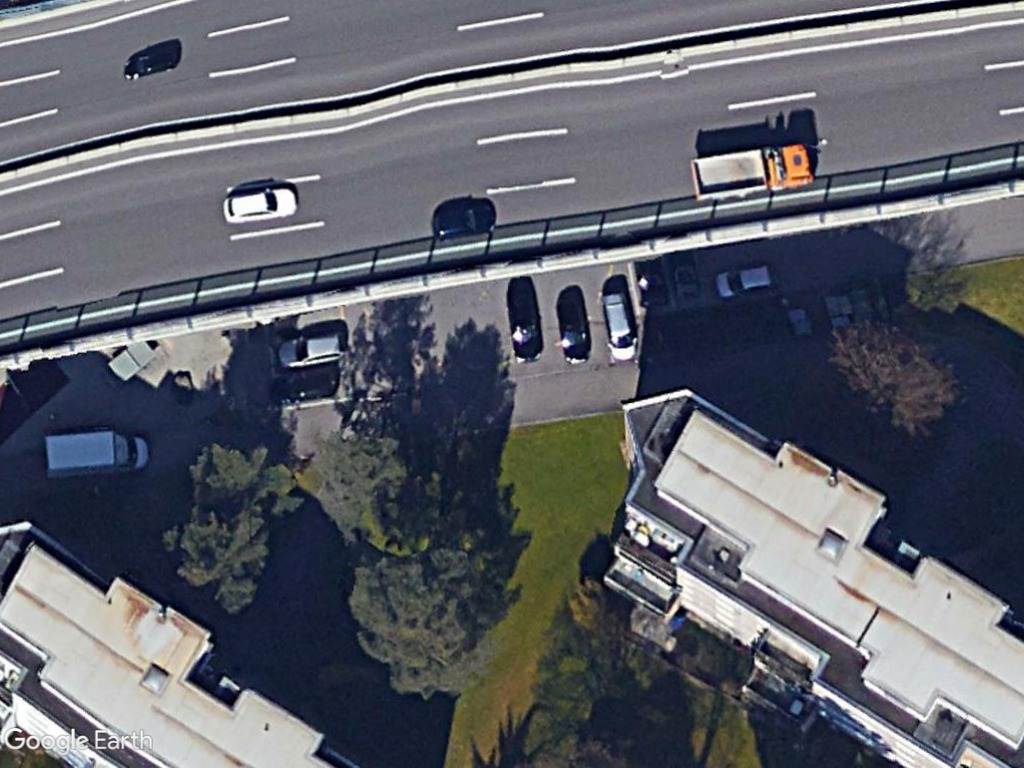car: (221, 184, 300, 227), (276, 327, 348, 372), (599, 290, 639, 364), (714, 261, 777, 300)
others: (688, 142, 816, 205)
truck: (41, 432, 153, 478)
